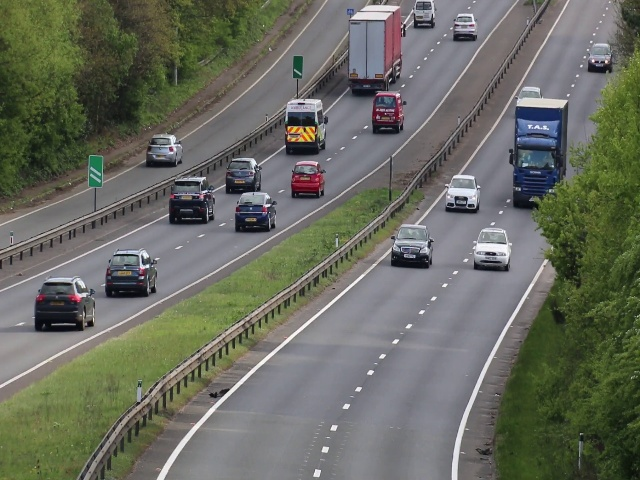car: (349, 3, 404, 95), (35, 276, 95, 332), (513, 131, 558, 190), (104, 250, 158, 296), (284, 98, 327, 153), (168, 176, 214, 226), (390, 220, 433, 268), (471, 226, 513, 271), (236, 192, 277, 231), (446, 171, 480, 215), (372, 91, 406, 133), (289, 161, 326, 198), (226, 156, 263, 192), (147, 133, 184, 166), (453, 12, 479, 42), (588, 43, 612, 73), (412, 1, 436, 28)
